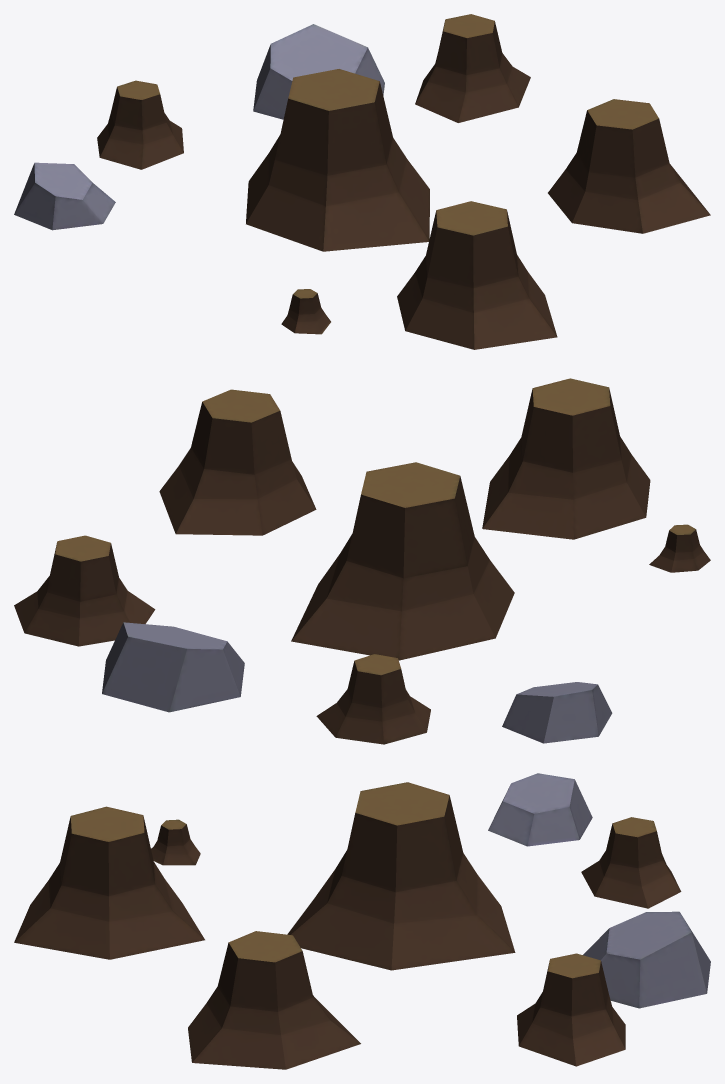
File: tile_wood_3_ruin.fbx
3 renders of one model, top to bottom at view 1: azimuth 30°, elevation 25°; view 2: azimuth 150°, elevation 25°; view 3: azimuth 270°, elevation 25°, orthographic. The views are drawn at different scales.
Visible parts, largest first — view 1: wood_3_ruin; view 2: wood_3_ruin; view 3: wood_3_ruin.
Part boxes in pixels (bbox=[...]): wood_3_ruin: bbox=[14, 14, 710, 349]; wood_3_ruin: bbox=[14, 378, 710, 744]; wood_3_ruin: bbox=[14, 773, 710, 1069].
Size of the model in its own units: 0.0294 by 0.00621 by 0.0322.
